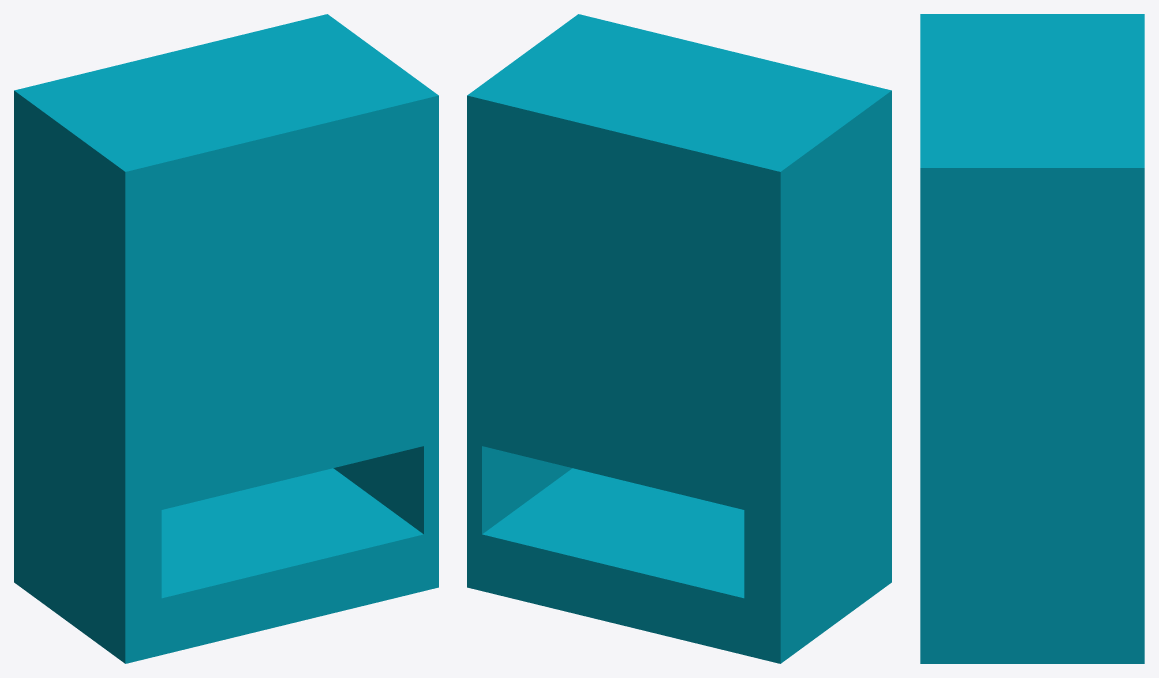
Rendered from Fantastic Gogo.glb.
3 renders of one model, left to right at view 1: azimuth 30°, elevation 25°; view 2: azimuth 150°, elevation 25°; view 3: azimuth 270°, elevation 25°, orthographic.
Visible parts, largest first — view 1: Mesh_Mesh_head_geo.001_lambert2SG.001; view 2: Mesh_Mesh_head_geo.001_lambert2SG.001; view 3: Mesh_Mesh_head_geo.001_lambert2SG.001.
Boxes of the visible parts, <box> form: Mesh_Mesh_head_geo.001_lambert2SG.001: <box>14,14,438,663</box>; Mesh_Mesh_head_geo.001_lambert2SG.001: <box>467,14,891,663</box>; Mesh_Mesh_head_geo.001_lambert2SG.001: <box>920,14,1144,663</box>.
Bounding box in the file's own units: 52 × 78 × 32.
